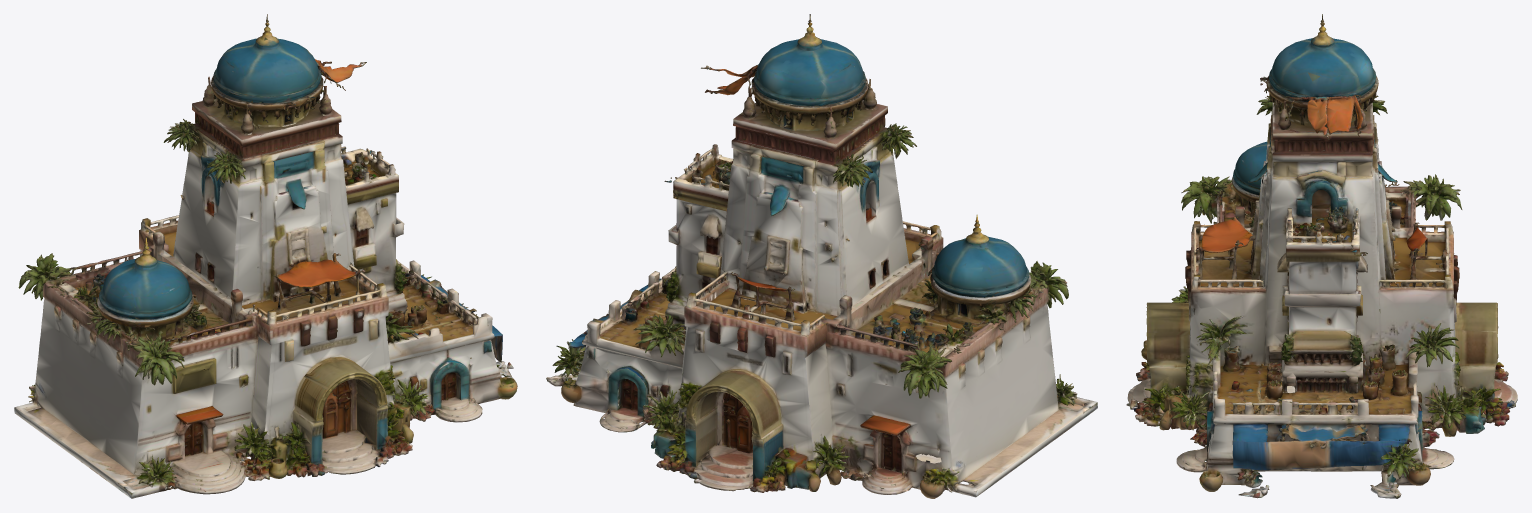
File: Desert_Oasis_Palace.glb
3 views of the same model, side by side, from view 1: azimuth 30°, elevation 25°; view 2: azimuth 150°, elevation 25°; view 3: azimuth 270°, elevation 25° (orthographic). The views are drawn at different scales.
Visible parts, largest first — view 1: Desert_Oasis_Palace; view 2: Desert_Oasis_Palace; view 3: Desert_Oasis_Palace.
Part boxes in pixels (x1,y1,x2,y2): Desert_Oasis_Palace: [14, 14, 517, 498]; Desert_Oasis_Palace: [546, 14, 1097, 498]; Desert_Oasis_Palace: [1126, 14, 1517, 498].
Size of the model in its own units: 1.92 by 1.67 by 1.54.
Materials: 1 (1 with a texture image).
